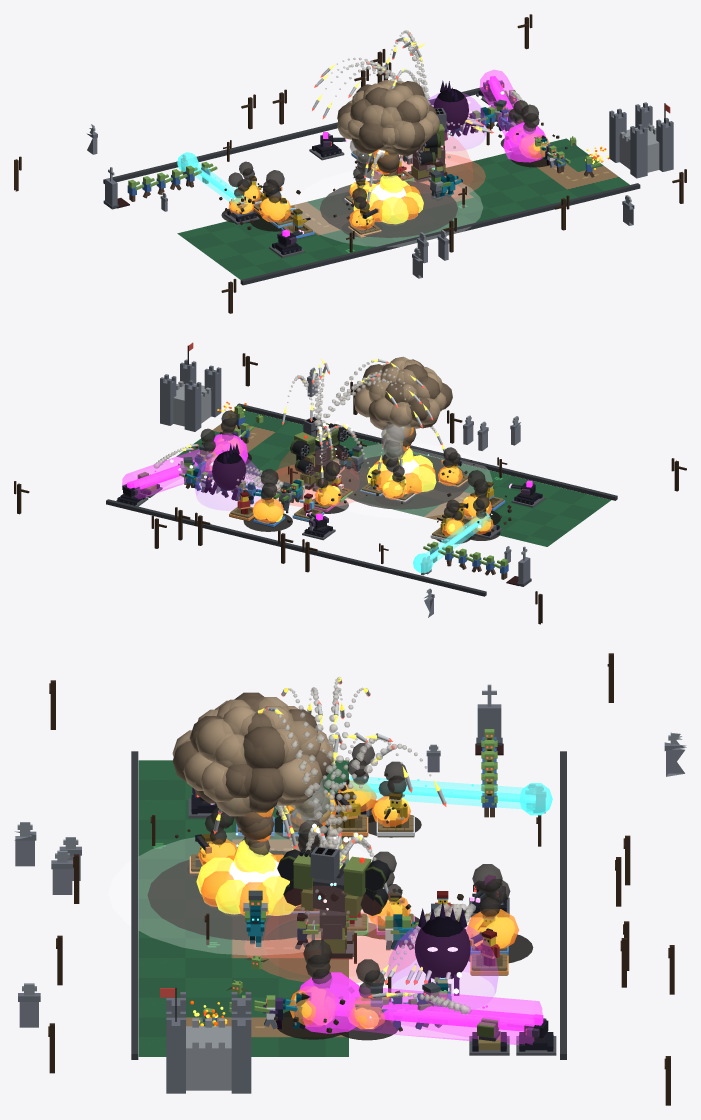
File: td-boss-mini.glb
The picture shows the model from 3 angles, top to bottom: view 1: azimuth 30°, elevation 25°; view 2: azimuth 150°, elevation 25°; view 3: azimuth 270°, elevation 25°; orthographic projection. The views are drawn at different scales.
Visible parts, largest first — view 1: td-boss; view 2: td-boss; view 3: td-boss.
Boxes of the visible parts, x1=… form: td-boss: x1=14, y1=14, x2=686, y2=313; td-boss: x1=14, y1=342, x2=686, y2=624; td-boss: x1=14, y1=653, x2=686, y2=1105.
Size of the model in its own units: 1.93 by 0.4658 by 1.35.
115 materials, 3 textured.
